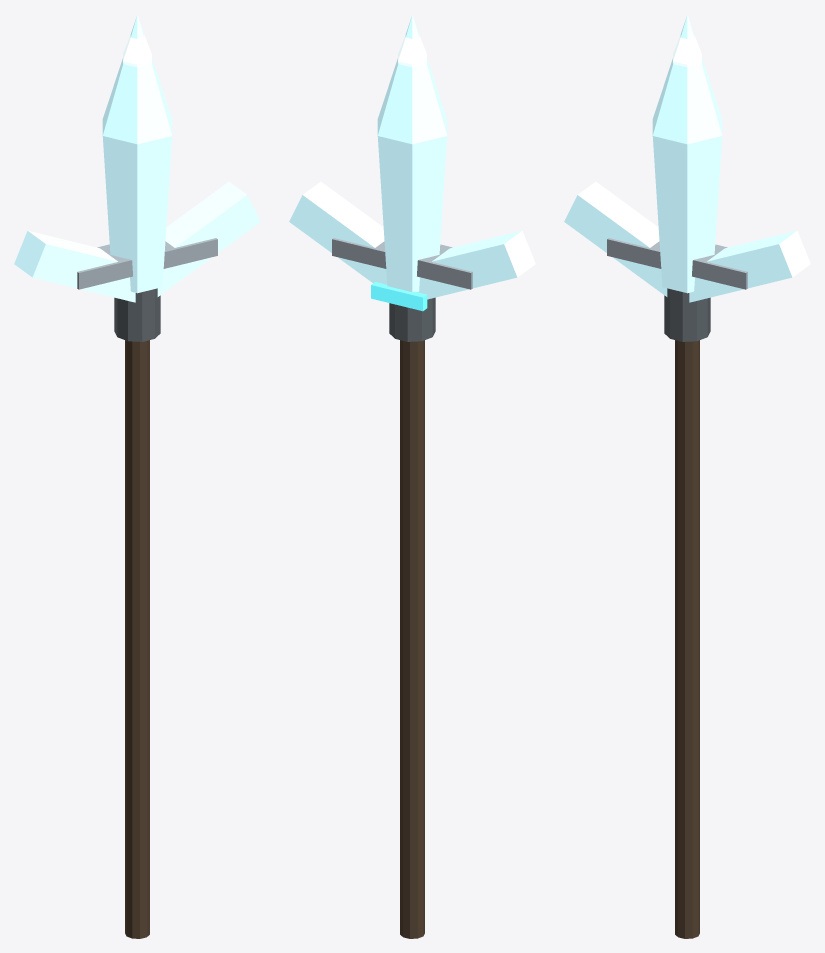
The model's file is crystal-weapon-atgeir.glb.
The picture shows the model from 3 angles, left to right: view 1: azimuth 30°, elevation 25°; view 2: azimuth 150°, elevation 25°; view 3: azimuth 330°, elevation 25°; orthographic projection.
Parts seen in each view (by area): view 1: pole, main-point, right-wing, left-wing, wing-core, socket, tip; view 2: pole, main-point, right-wing, left-wing, wing-core, socket, rainbow-bind, tip; view 3: pole, main-point, left-wing, right-wing, wing-core, socket, tip.
Boxes of the visible parts, x1,y1,x2,y2 form: pole: (125, 340, 149, 938); main-point: (102, 14, 172, 293); right-wing: (157, 181, 260, 296); left-wing: (14, 230, 135, 302); wing-core: (77, 238, 217, 289); socket: (114, 288, 160, 341); tip: (123, 35, 151, 67); pole: (400, 340, 424, 938); main-point: (377, 14, 447, 292); right-wing: (289, 181, 387, 284); left-wing: (417, 230, 535, 299); wing-core: (332, 238, 472, 289); socket: (389, 297, 435, 341); rainbow-bind: (371, 282, 427, 311); tip: (398, 35, 426, 67); pole: (675, 340, 699, 938); main-point: (652, 14, 722, 293); left-wing: (564, 181, 667, 296); right-wing: (689, 230, 810, 302); wing-core: (607, 238, 747, 289); socket: (664, 288, 710, 341); tip: (673, 35, 701, 67).
Bounding box in the file's own units: 0.789 × 3.04 × 0.2078.
